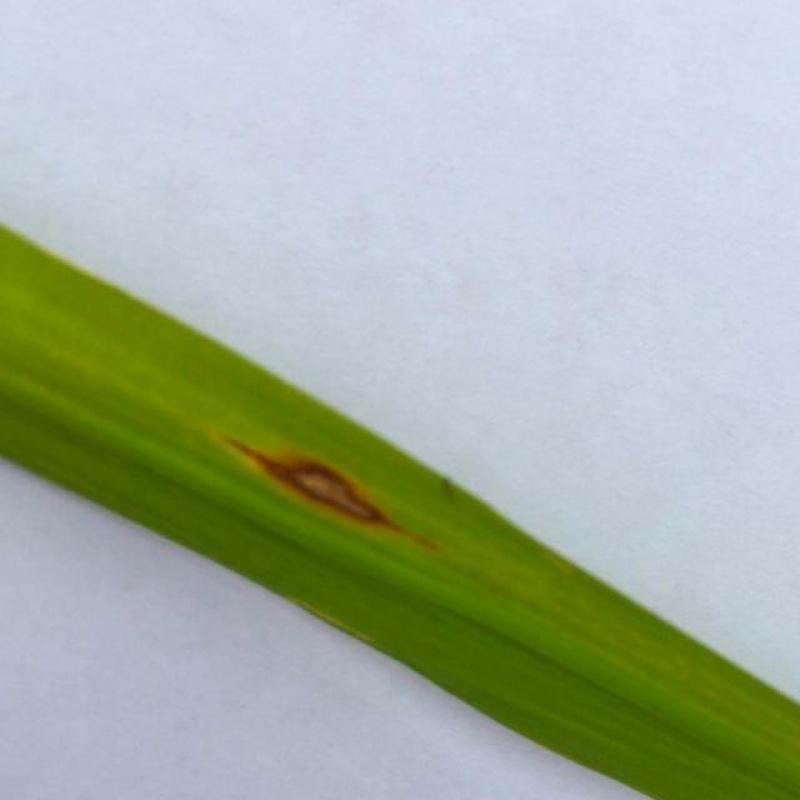Leaf_Blast: (245, 369, 423, 645)
